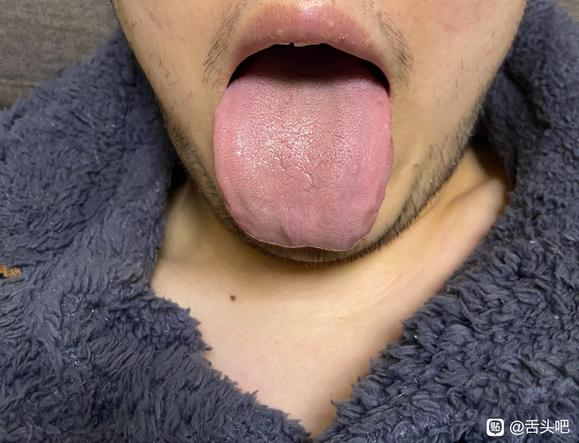baitaishe: (212, 51, 393, 251)
pangdashe: (212, 51, 393, 251)
